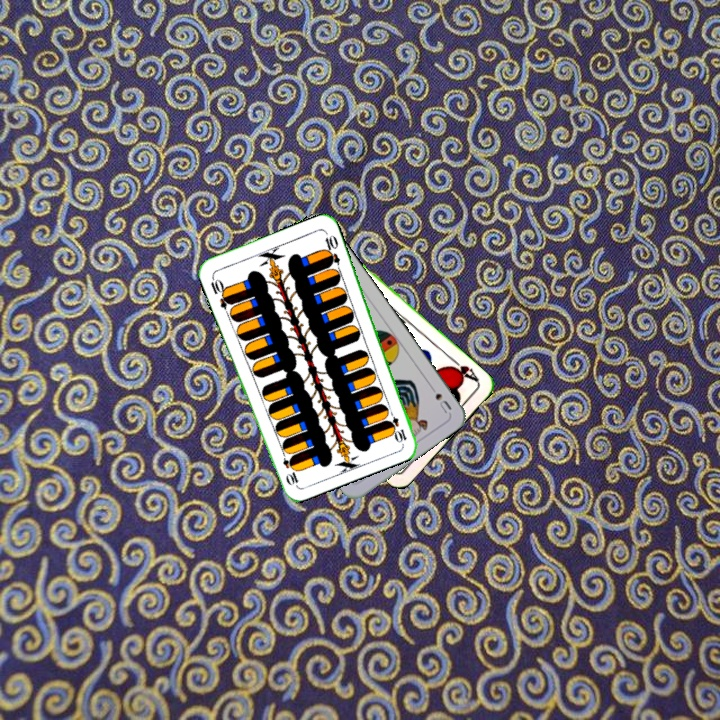E10: (206, 272, 234, 311), (384, 405, 409, 445)
HA: (444, 354, 482, 385)
SU: (425, 380, 454, 416)
